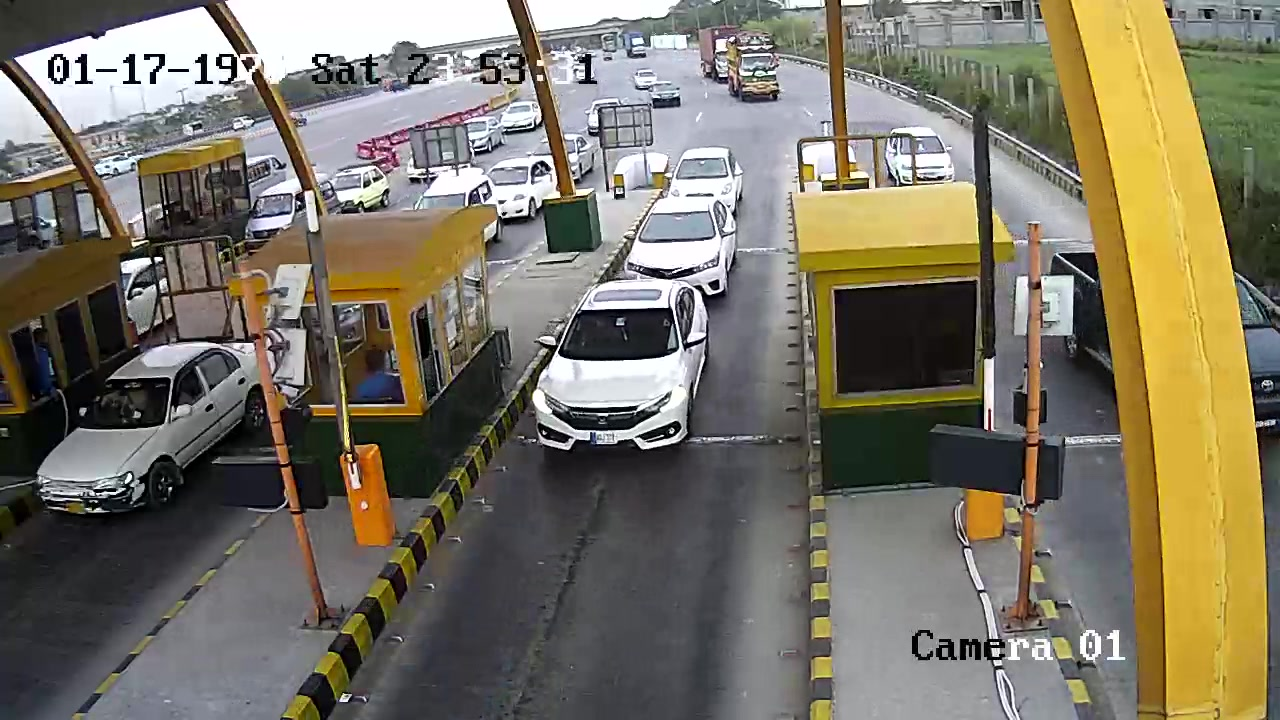F1: (522, 280, 717, 460)
